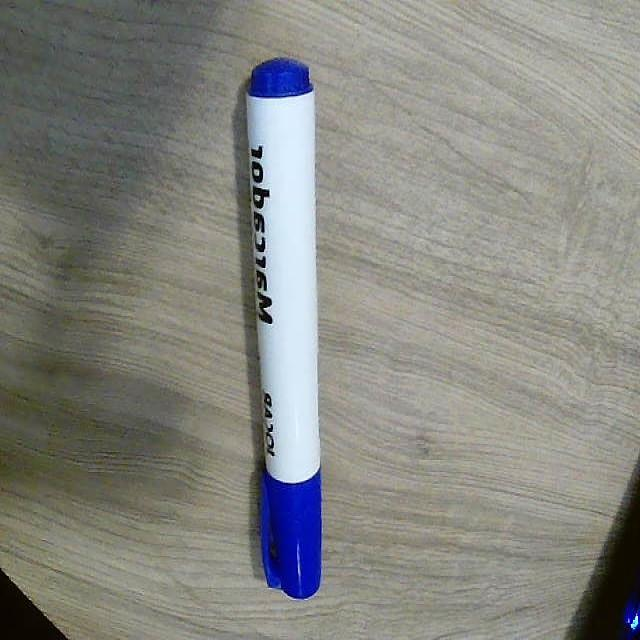caneta: (245, 35, 333, 609)
